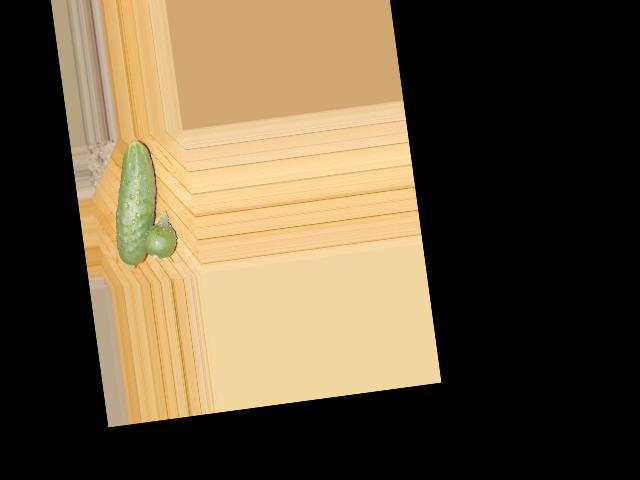cucumber: (103, 138, 166, 267)
